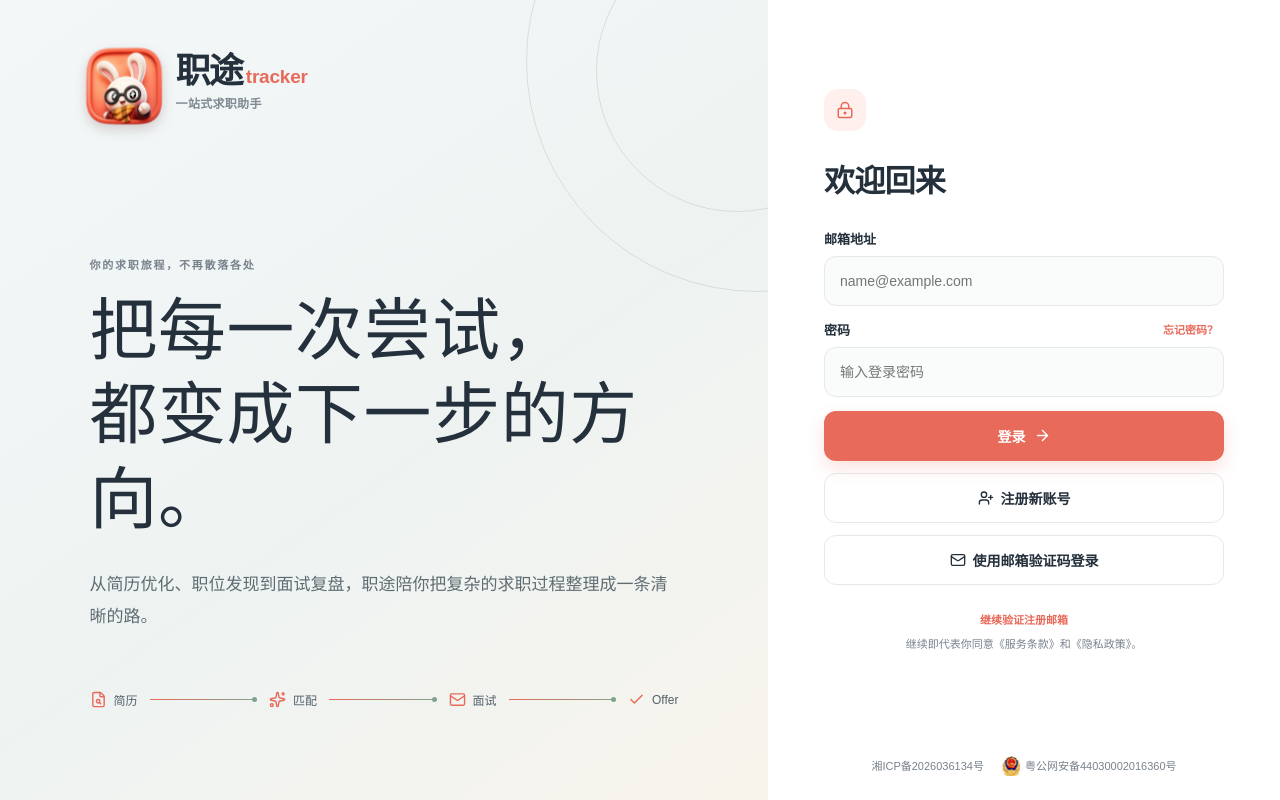
Test: LoginPage session redirect › offers public email registration without an invitation code
This screenshot has width=1280, height=800.
Click the button "注册新账号" at point(1024, 498), box [824,473,1224,523]
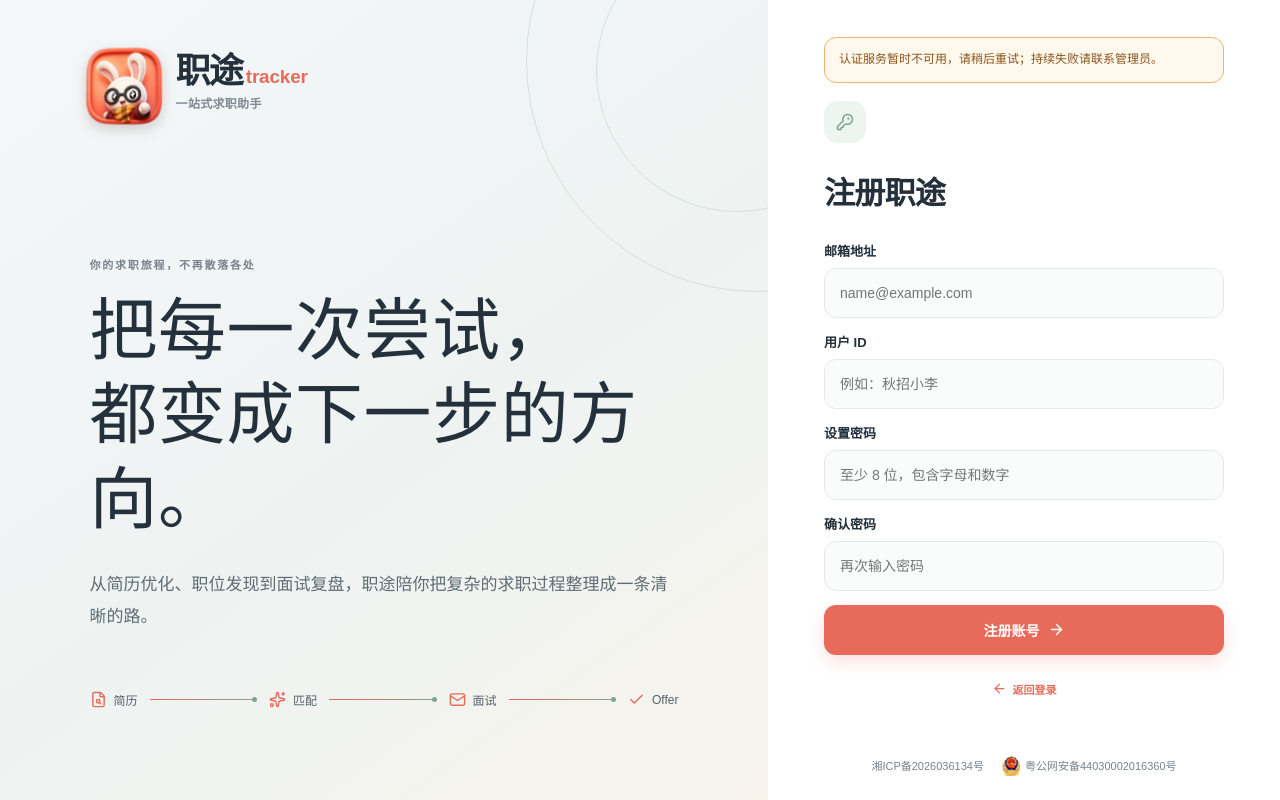
Now the heading "注册职途" is shown, box [824,176,945,211]
Now the button "注册账号" is shown, box [824,605,1224,655]
